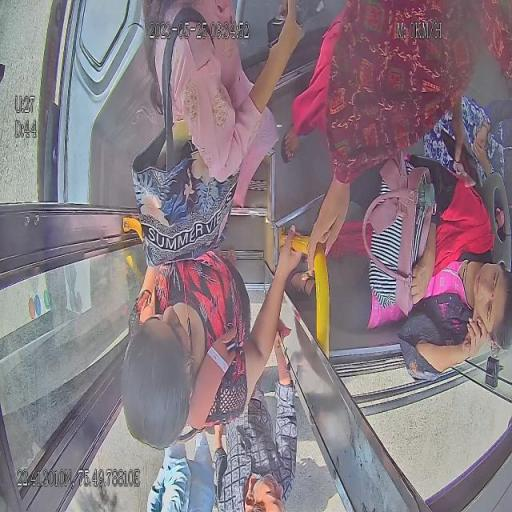persona: (286, 0, 511, 258), (296, 174, 510, 380), (120, 224, 306, 450), (132, 0, 306, 228), (213, 328, 299, 511)
